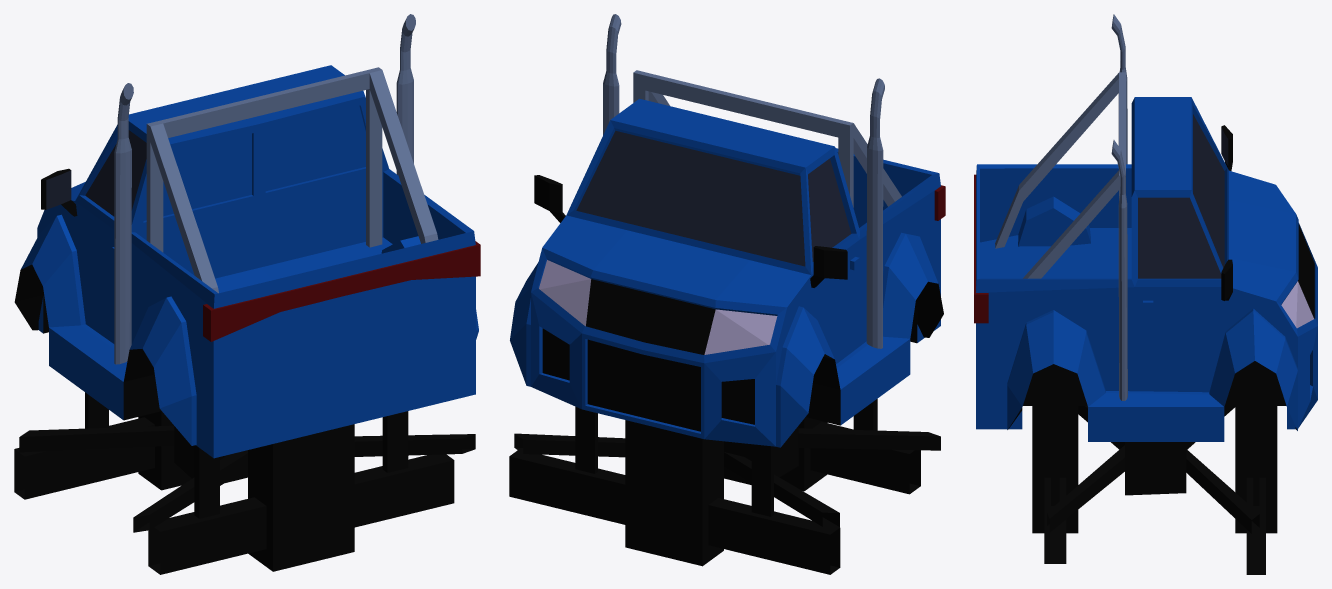
The model's file is Truck.obj.
3 renders of one model, left to right at view 1: azimuth 30°, elevation 25°; view 2: azimuth 150°, elevation 25°; view 3: azimuth 270°, elevation 25°, orthographic. The views are drawn at different scales.
Visible parts, largest first — view 1: Monster_Truck; view 2: Monster_Truck; view 3: Monster_Truck.
Boxes of the visible parts, x1=… form: Monster_Truck: x1=14, y1=14, x2=480, y2=574; Monster_Truck: x1=509, y1=14, x2=945, y2=574; Monster_Truck: x1=974, y1=14, x2=1317, y2=574.
Bounding box in the file's own units: 1.17 × 1.54 × 1.1.
